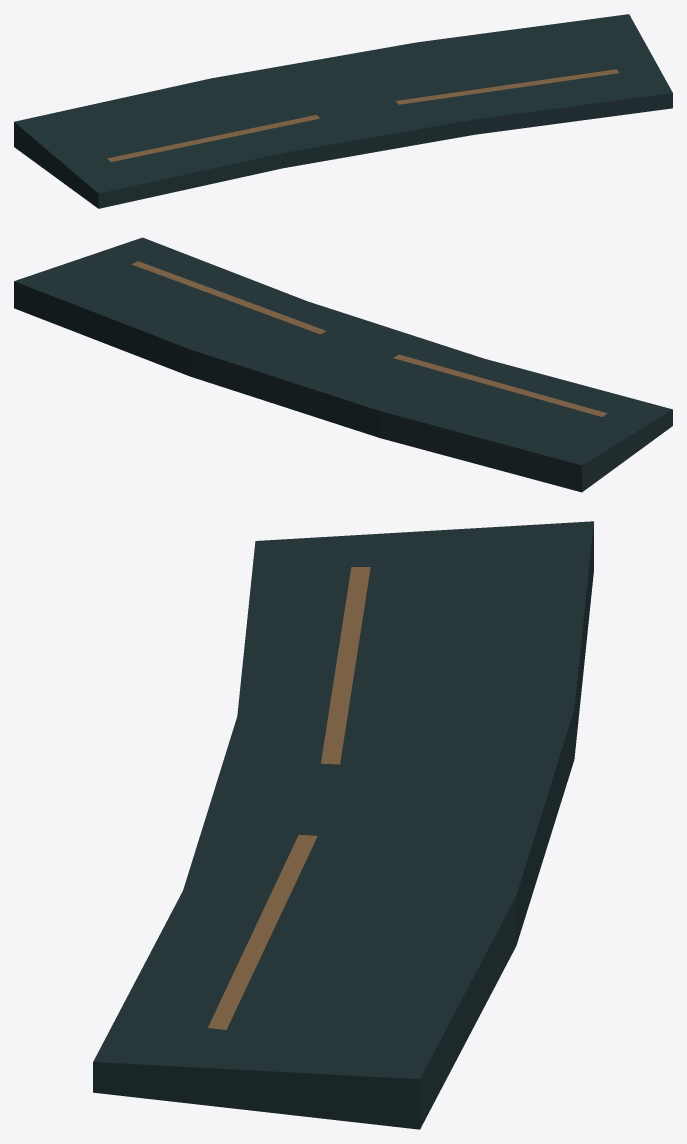
File: rim_segment.glb
3 views of the same model, one above another, from view 1: azimuth 30°, elevation 25°; view 2: azimuth 150°, elevation 25°; view 3: azimuth 270°, elevation 25° (orthographic). The views are drawn at different scales.
Parts seen in each view (by area): view 1: body; view 2: body; view 3: body.
Part boxes in pixels (x1,y1,x2,y2): body: [14, 14, 672, 208]; body: [14, 237, 672, 492]; body: [93, 521, 593, 1129].
Bounding box in the file's own units: 5.46 × 0.23 × 2.07.
